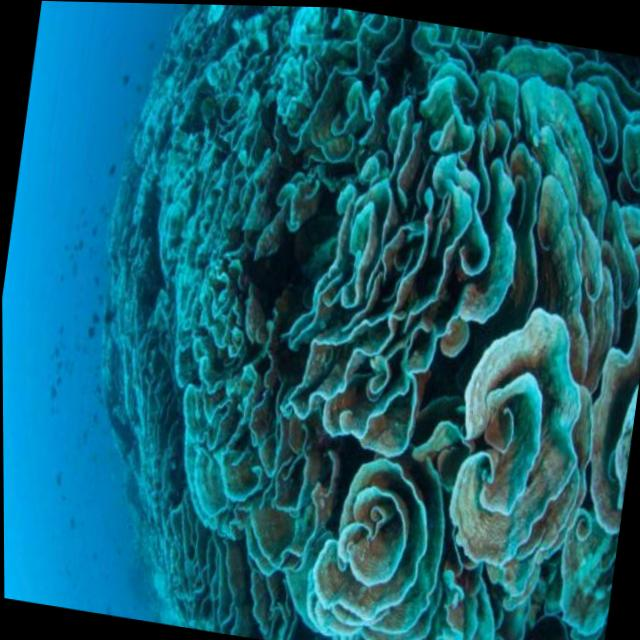Healthy Coral: (127, 7, 640, 640)
